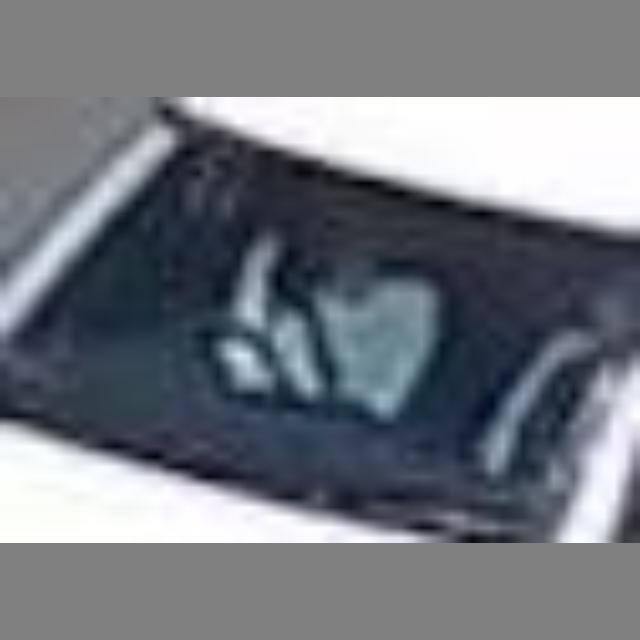pakai: (213, 178, 437, 442)
